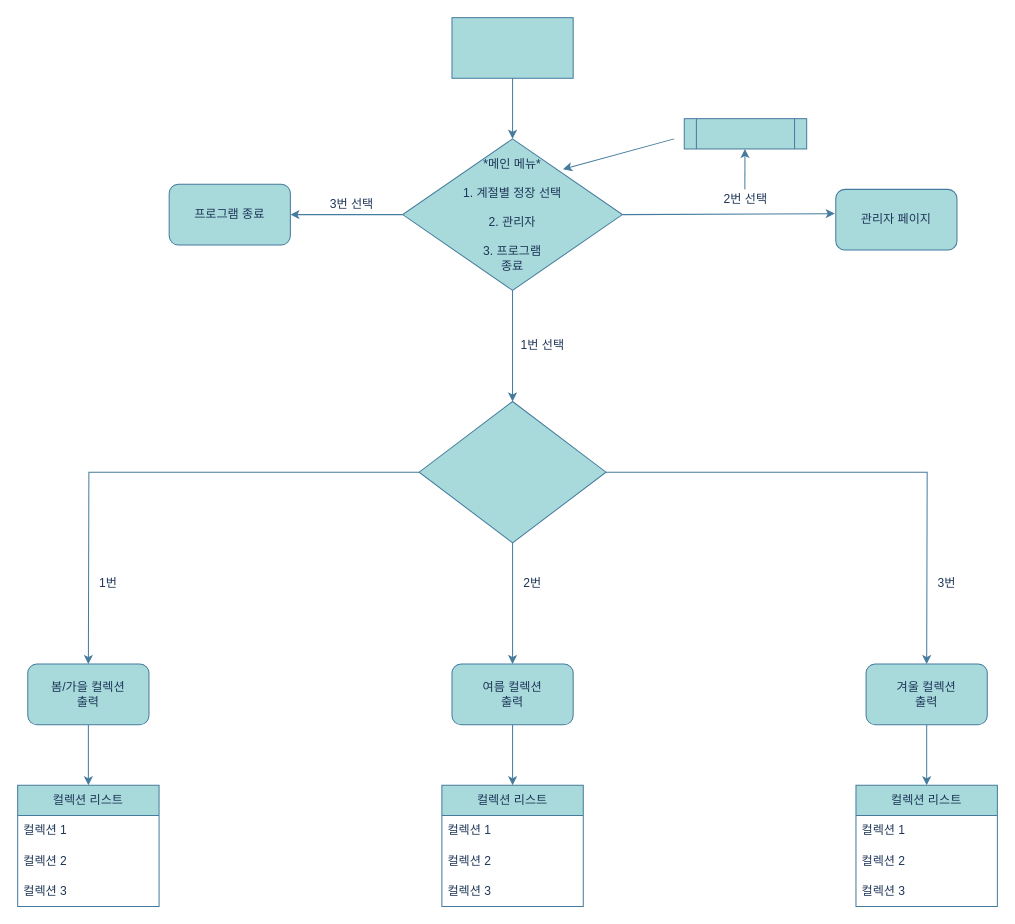
This 1015x924 diagram has some shape labels left out. The centre of each missing label's shape, as x and y in pixels:
"계절별 컬렉션 1. 봄/가을 2. 여름 3. 겨울" belongs at (x=512, y=471).
"로그인 5회실패시" belongs at (x=745, y=133).
"정장 구매 플랫폼" belongs at (x=512, y=47).
